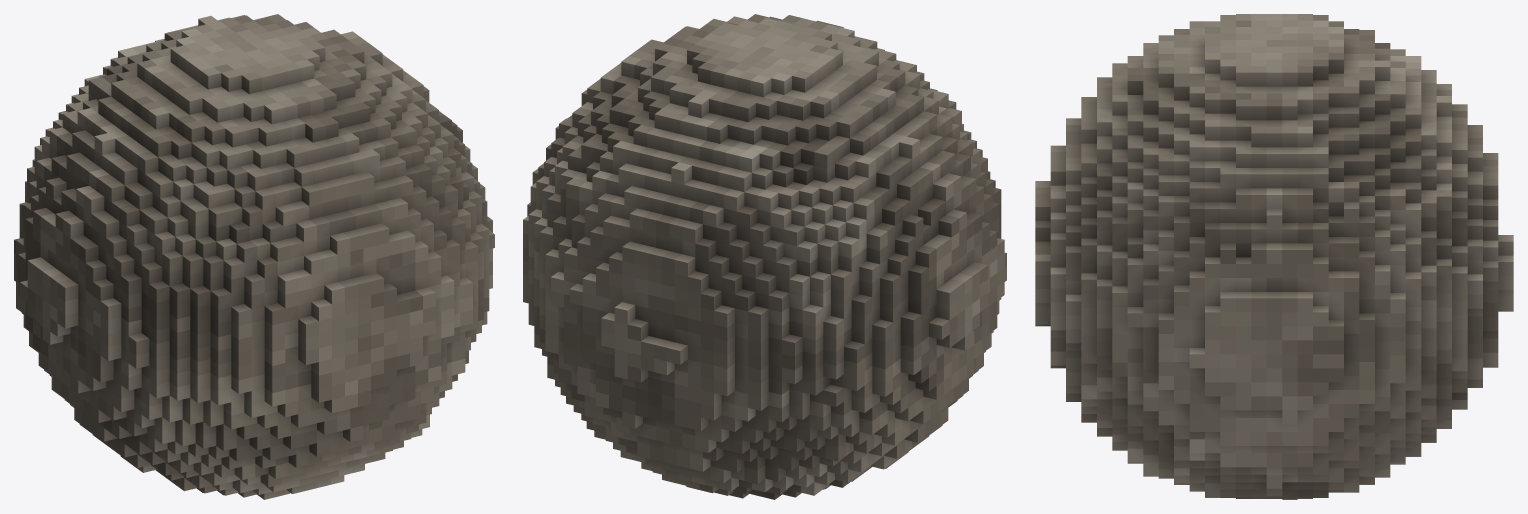
File: ganymede_lod1.glb
3 views of the same model, side by side, from view 1: azimuth 30°, elevation 25°; view 2: azimuth 150°, elevation 25°; view 3: azimuth 270°, elevation 25° (orthographic). The views are drawn at different scales.
Parts seen in each view (by area): view 1: ganymede_lod1; view 2: ganymede_lod1; view 3: ganymede_lod1.
Part boxes in pixels (<box>): ganymede_lod1: <box>14,14,494,499</box>; ganymede_lod1: <box>523,14,1006,499</box>; ganymede_lod1: <box>1035,14,1513,499</box>.
Bounding box in the file's own units: 2.07 × 2.07 × 2.07.
